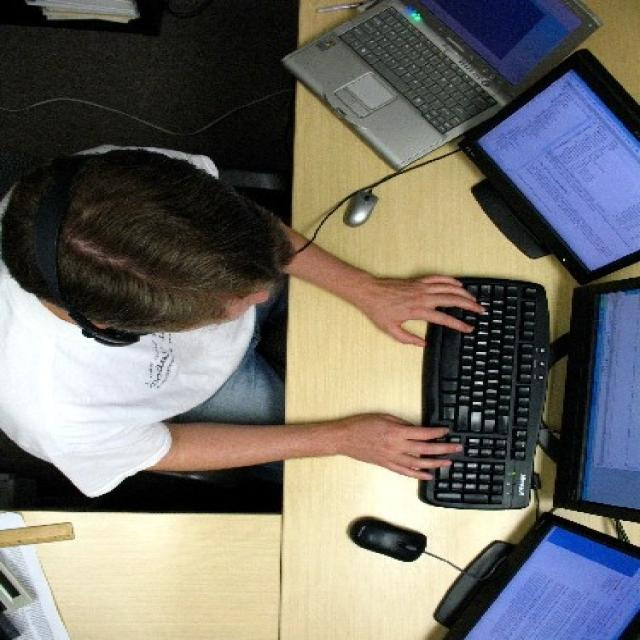tvmonitor: (454, 48, 638, 286), (434, 512, 638, 639), (536, 276, 638, 525)
